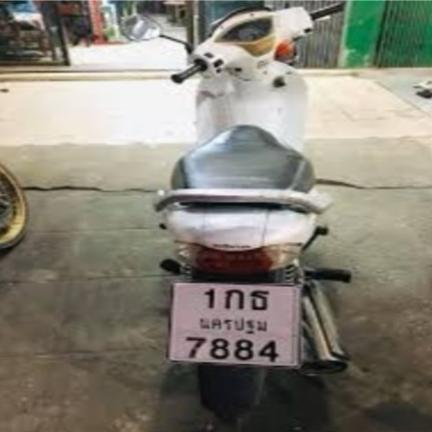1: (203, 286, 217, 309)
4: (255, 338, 284, 364)
7: (184, 336, 207, 359)
8: (208, 338, 231, 360), (233, 338, 255, 361)
A01: (221, 288, 247, 310)
A24: (250, 288, 269, 311)
NPT: (197, 314, 271, 335)
